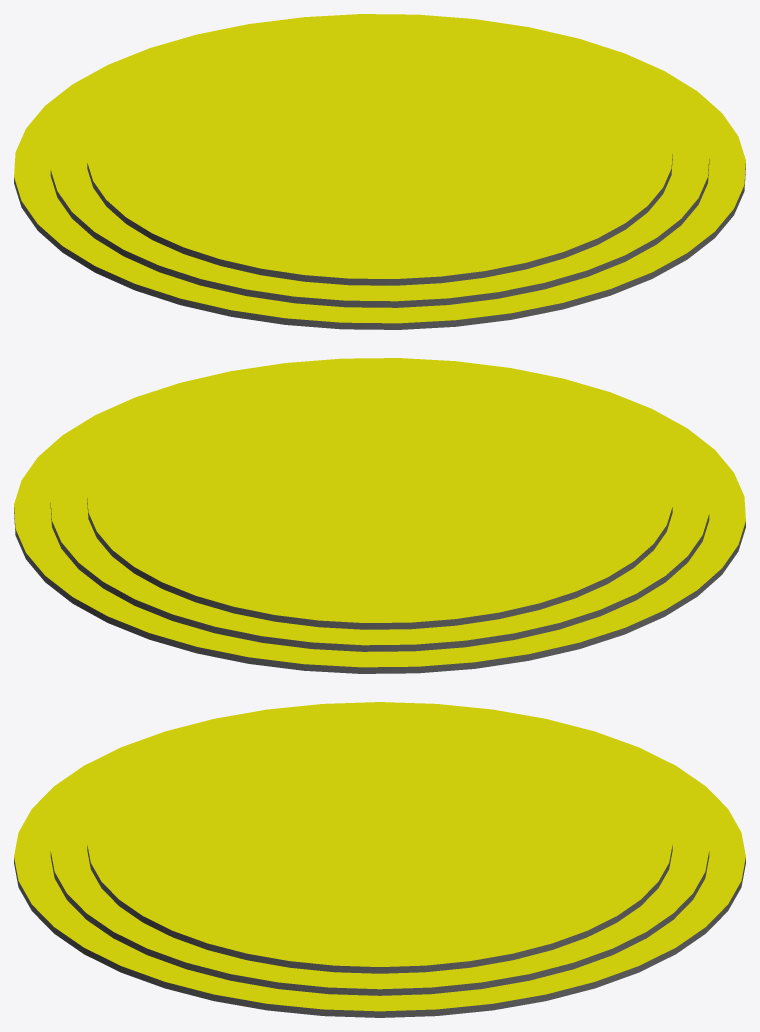
Rendered from YellowPodium.fbx.
3 views of the same model, one above another, from view 1: azimuth 30°, elevation 25°; view 2: azimuth 150°, elevation 25°; view 3: azimuth 270°, elevation 25° (orthographic).
Parts seen in each view (by area): view 1: Podium; view 2: Podium; view 3: Podium.
Boxes of the visible parts, box(x1,y1,x2,y2) form: Podium: box(14, 14, 745, 329); Podium: box(14, 358, 745, 673); Podium: box(14, 702, 745, 1017).
Size of the model in its own units: 200 by 6 by 200.
